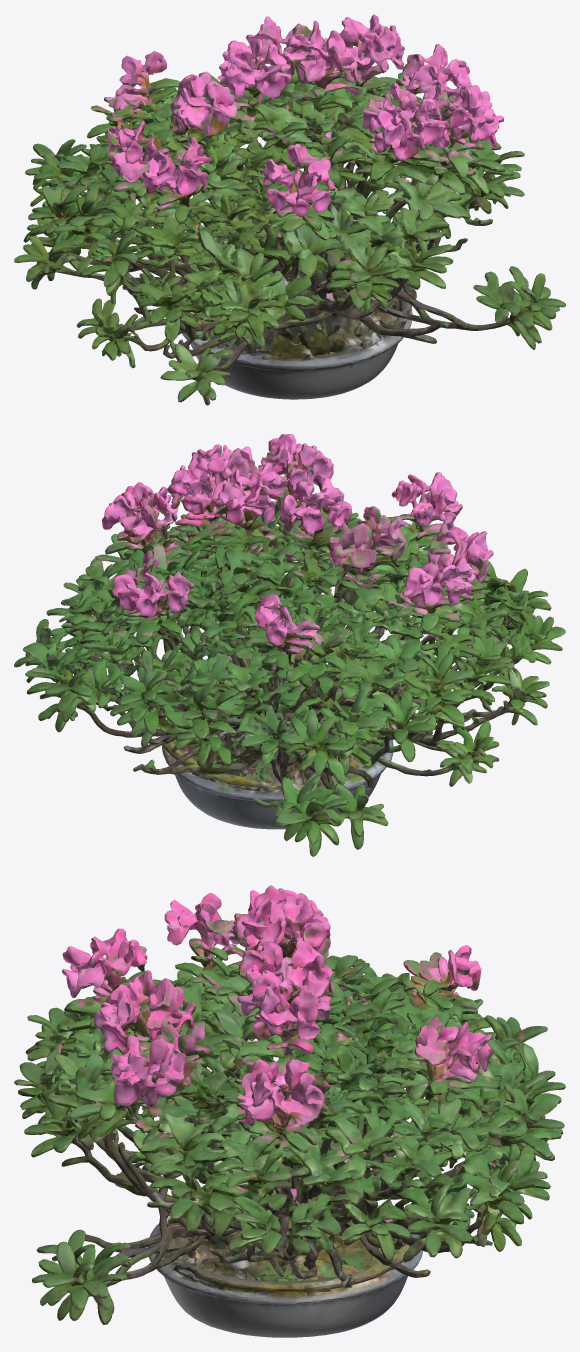
File: rhododendron-01.glb
The picture shows the model from 3 angles, top to bottom: view 1: azimuth 30°, elevation 25°; view 2: azimuth 150°, elevation 25°; view 3: azimuth 270°, elevation 25°; orthographic projection. The views are drawn at different scales.
Visible parts, largest first — view 1: geometry_0; view 2: geometry_0; view 3: geometry_0.
Boxes of the visible parts, x1,y1,x2,y2 form: geometry_0: (14,14,565,405); geometry_0: (14,434,565,856); geometry_0: (14,885,565,1337).
Bounding box in the file's own units: 0.45 × 0.3296 × 0.4436.
1 material, 1 textured.
